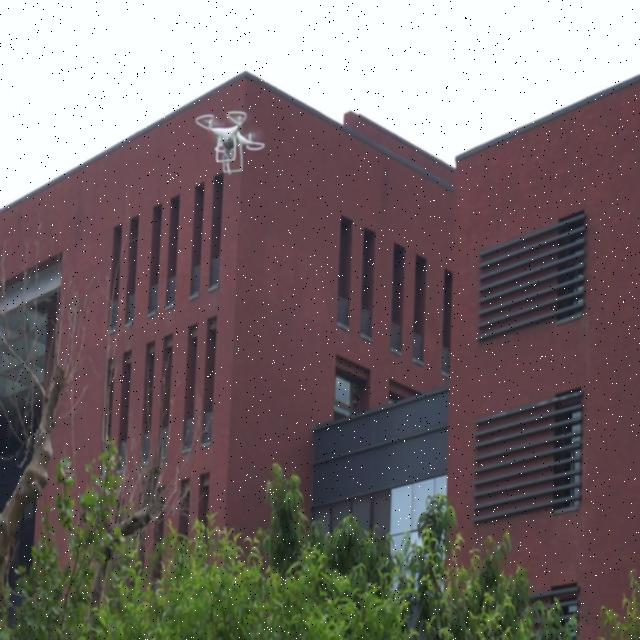UAV: (195, 110, 265, 176)
